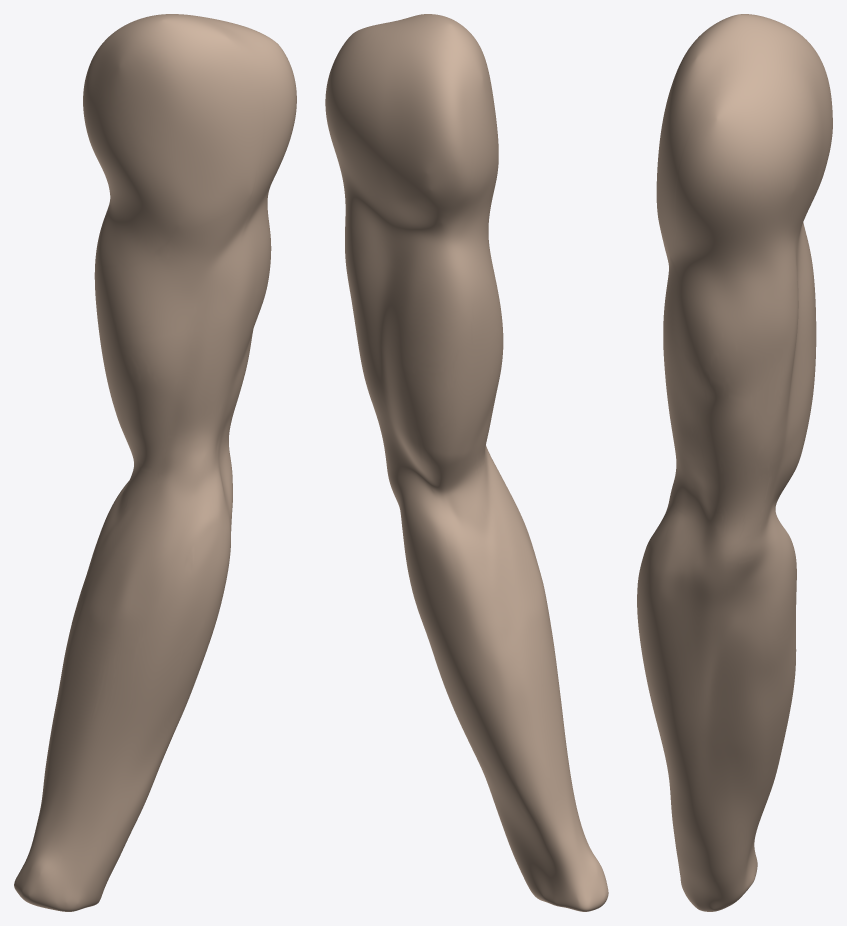
The model's file is sculpt-arm.glb.
The picture shows the model from 3 angles, left to right: view 1: azimuth 30°, elevation 25°; view 2: azimuth 150°, elevation 25°; view 3: azimuth 270°, elevation 25°; orthographic projection. The views are drawn at different scales.
Visible parts, largest first — view 1: sculpt-arm; view 2: sculpt-arm; view 3: sculpt-arm.
Boxes of the visible parts, bbox=[...] form: sculpt-arm: bbox=[14, 14, 296, 911]; sculpt-arm: bbox=[325, 14, 608, 911]; sculpt-arm: bbox=[637, 14, 832, 911].
Bounding box in the file's own units: 0.1972 × 0.6 × 0.1131.
